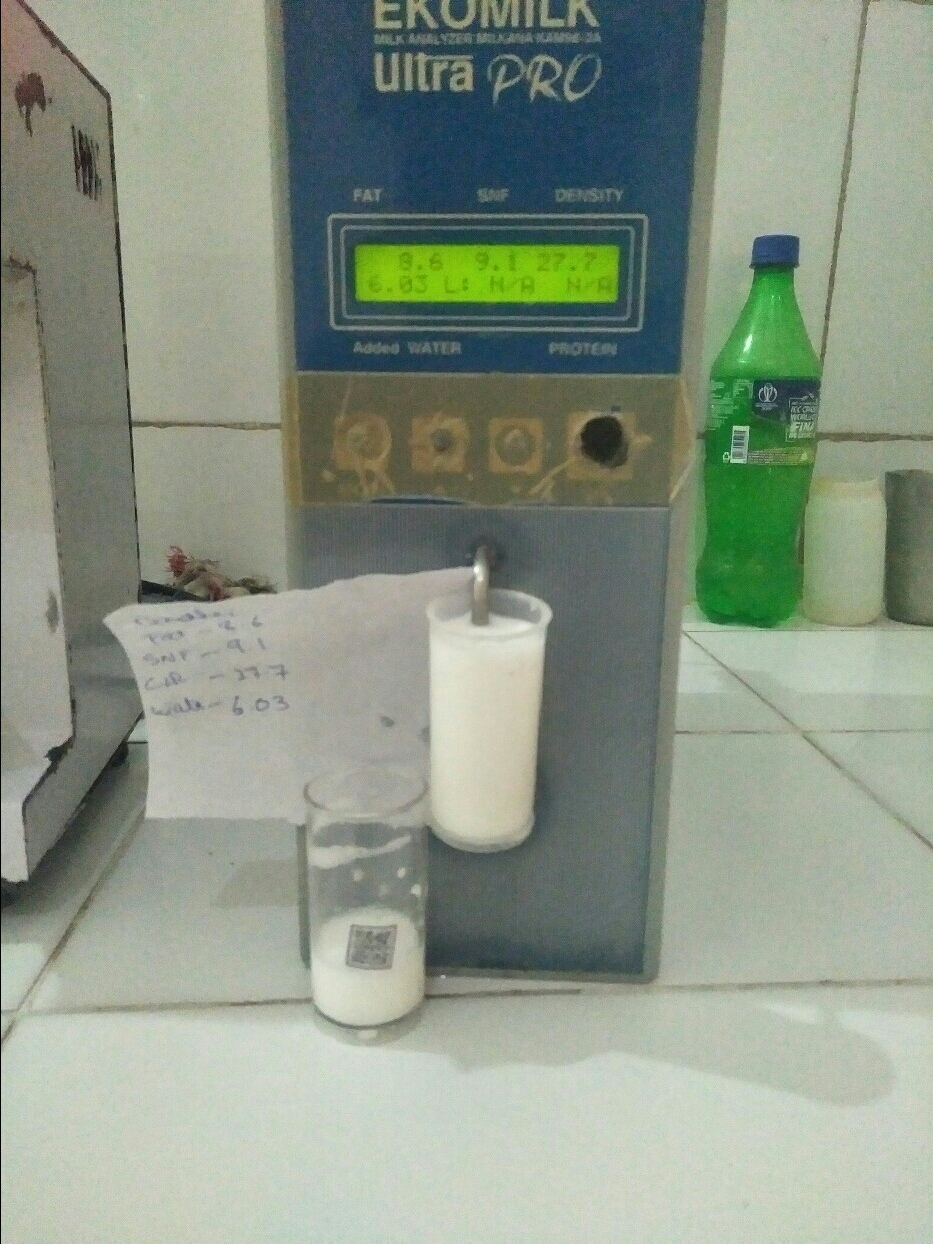lcd: (342, 239, 635, 316)
qr: (325, 914, 422, 995)
